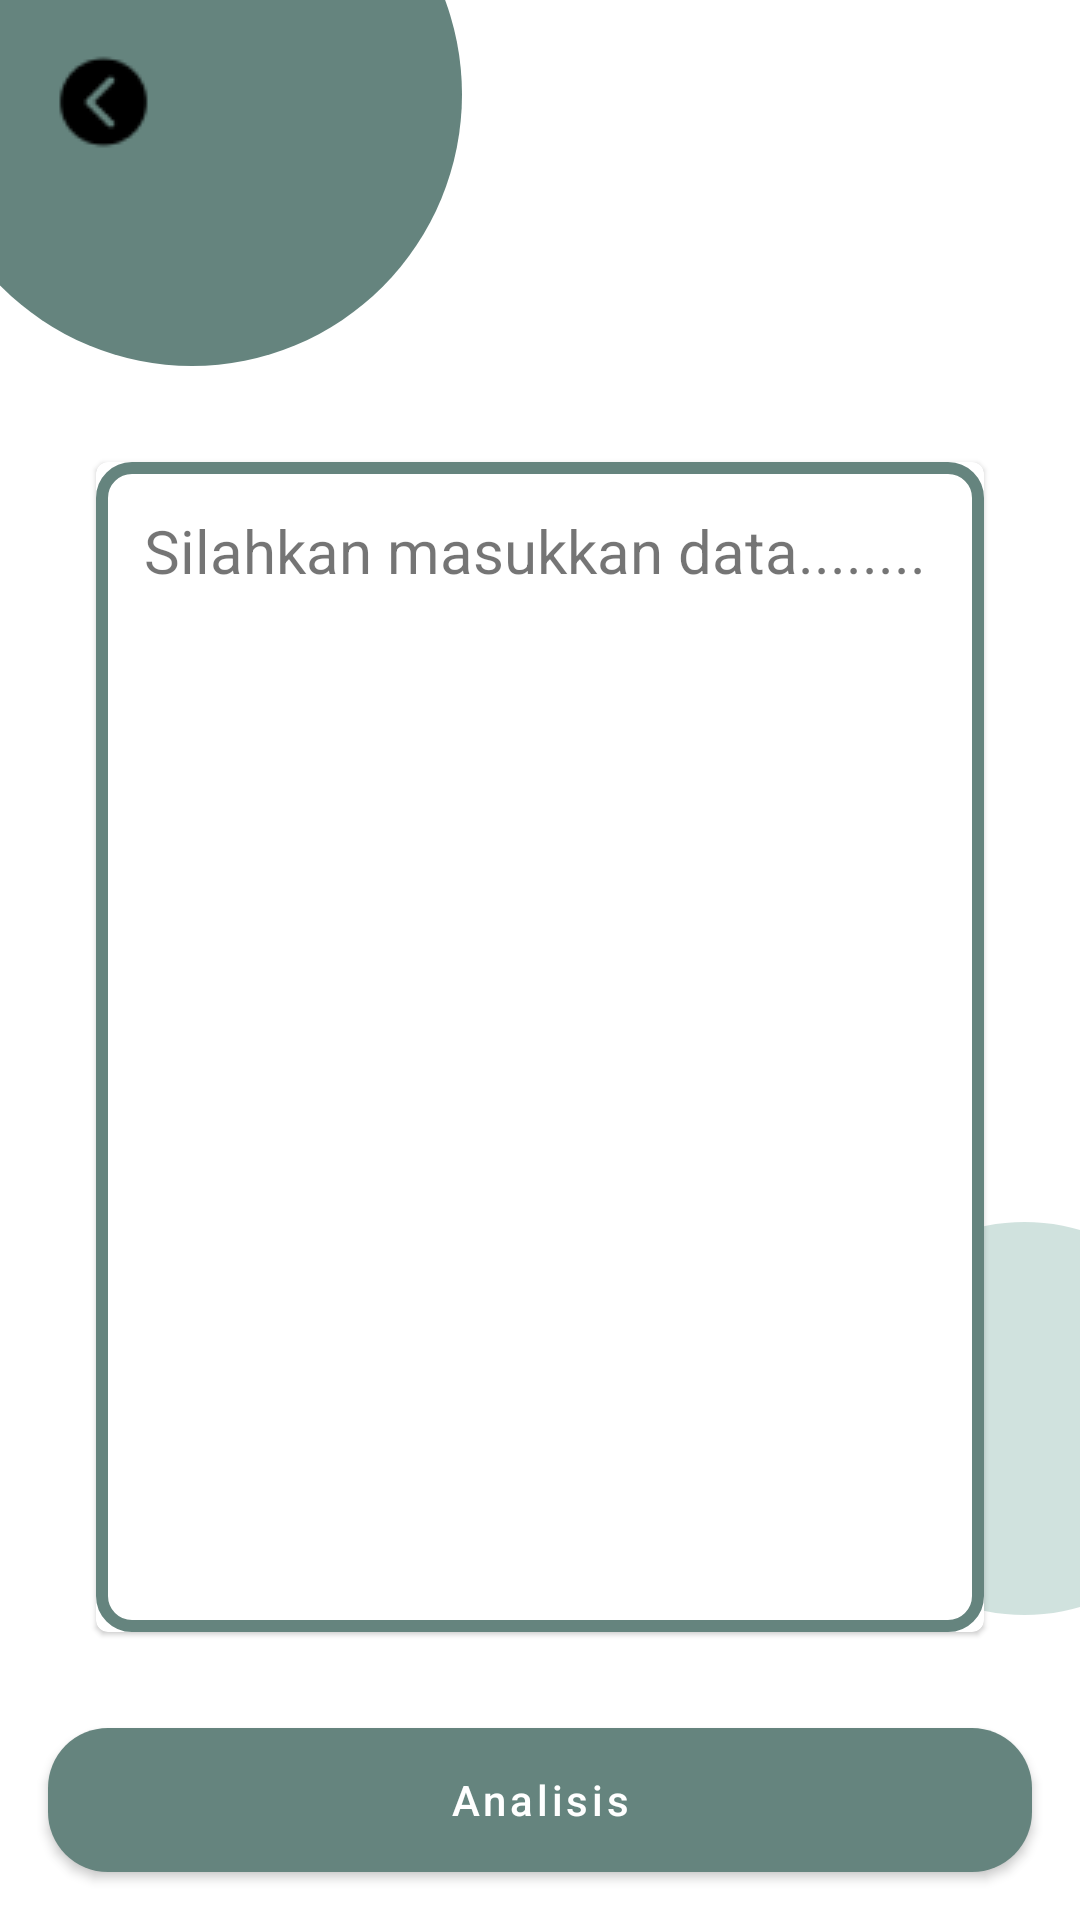

Where to tap for icons on this 1080 x 1920 app screen, as (x,y):
back to: (103,102)
